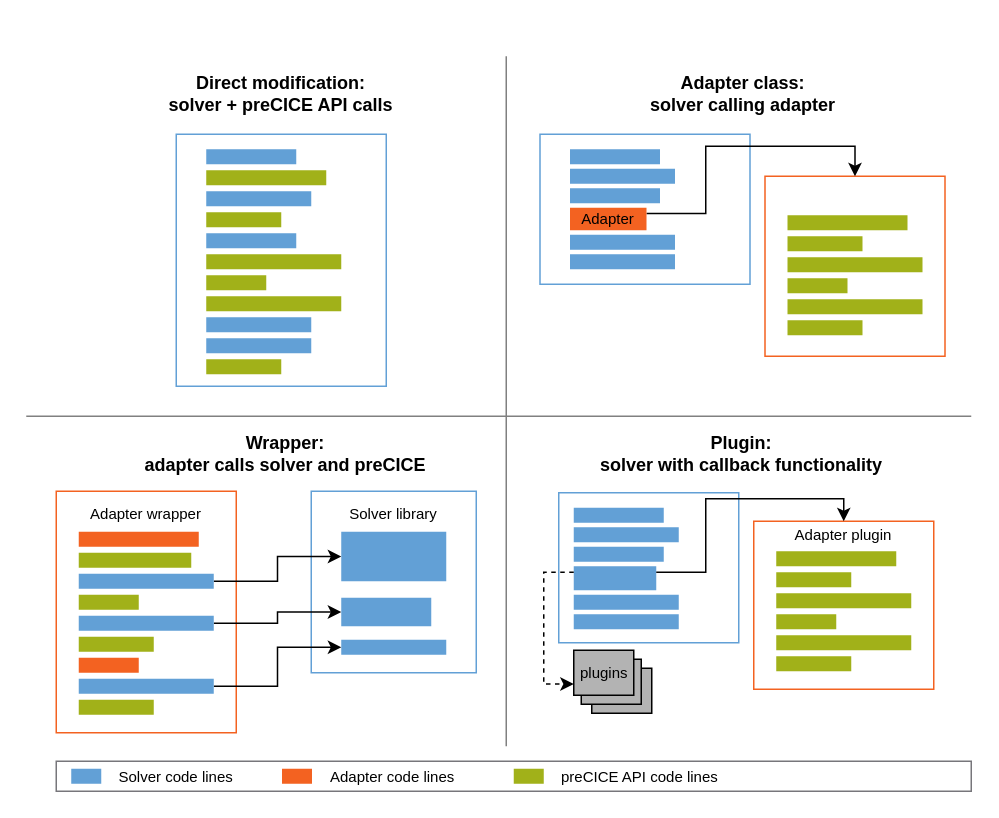
The diagram is 999 pixels wide and 818 high, and some of its shapes have lost their labels. Each missing label, with the centre of its shape:
"Adapter class" belongs at pixel 854 265.
"Callback" belongs at pixel 614 578.
